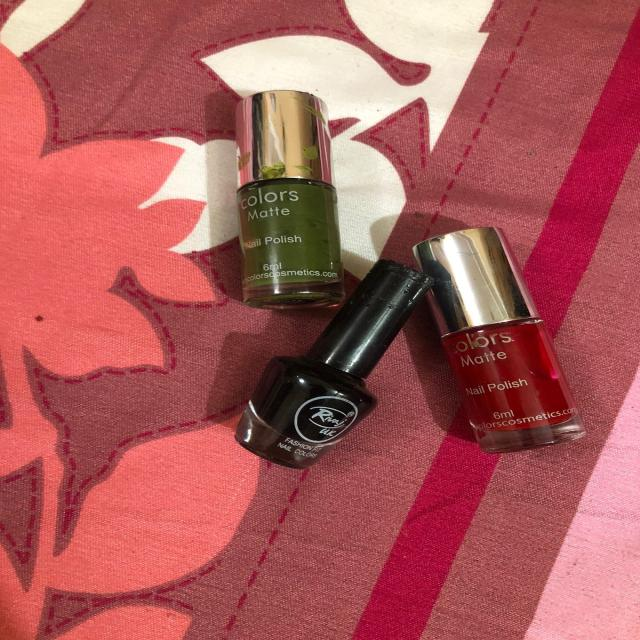nail polish: (207, 240, 449, 490), (417, 218, 601, 470), (201, 66, 352, 310)
